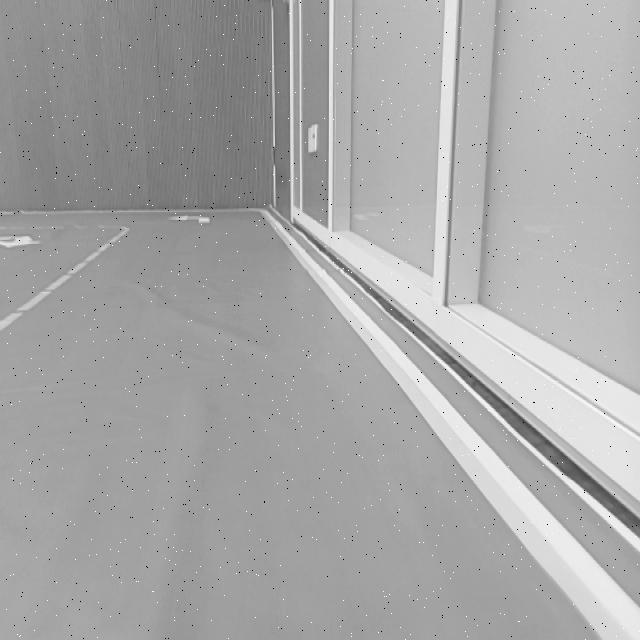left_lane: (0, 231, 128, 337)
right_lane: (264, 213, 633, 640)
